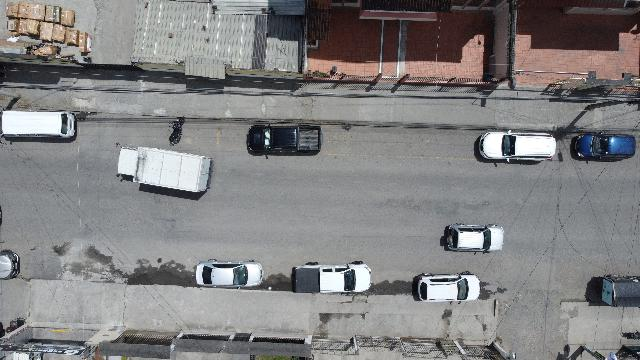Vehiculo: (244, 122, 324, 158), (291, 261, 373, 295), (476, 131, 556, 163), (195, 259, 263, 289), (415, 272, 483, 302), (570, 132, 636, 160), (444, 224, 504, 252), (600, 274, 640, 308), (1, 247, 22, 281)
